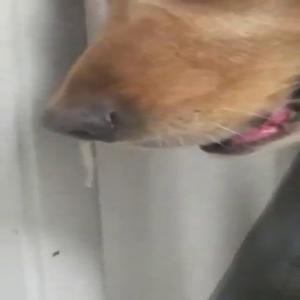nasal_discharge: (37, 102, 122, 191)
